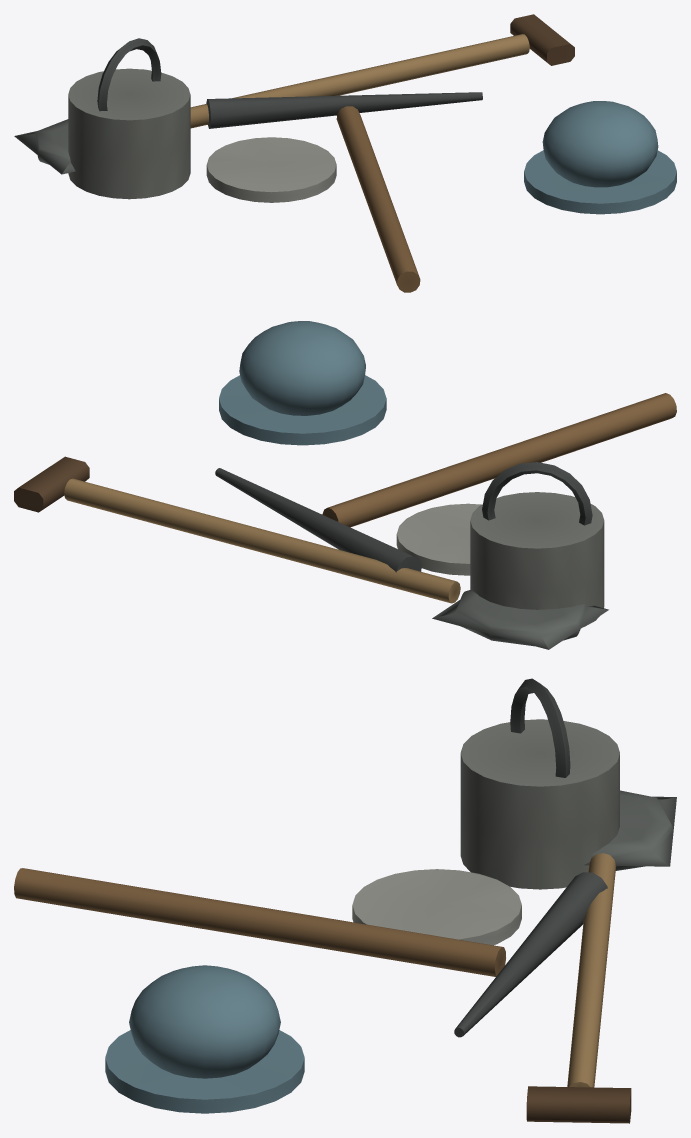
The model's file is tool_drop_b.glb.
3 renders of one model, top to bottom at view 1: azimuth 30°, elevation 25°; view 2: azimuth 150°, elevation 25°; view 3: azimuth 270°, elevation 25°, orthographic. The views are drawn at different scales.
Visible parts, largest first — view 1: Surface; view 2: Surface; view 3: Surface.
Boxes of the visible parts, x1,y1,x2,y2 form: Surface: [14, 14, 676, 292]; Surface: [14, 321, 676, 649]; Surface: [14, 678, 676, 1123].
Bounding box in the file's own units: 1.49 × 0.3684 × 1.29.
